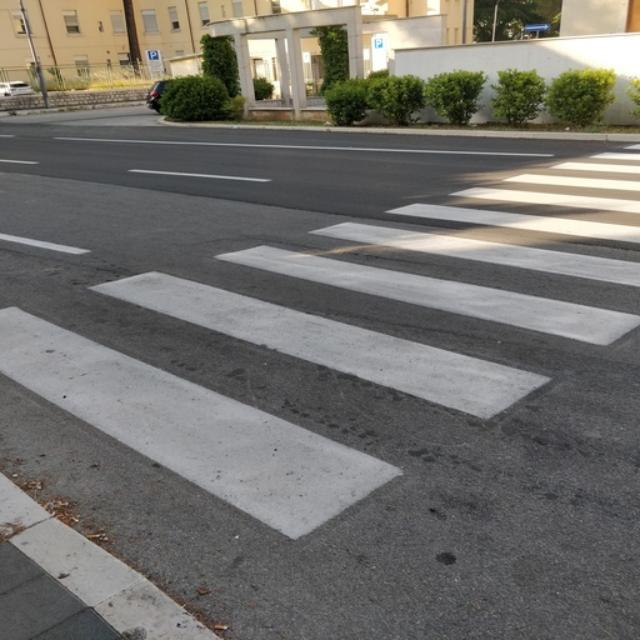sidewalk: (3, 143, 633, 636)
